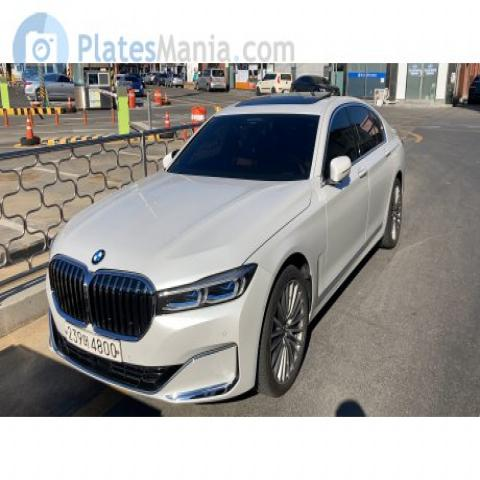LP: (53, 314, 132, 374)
